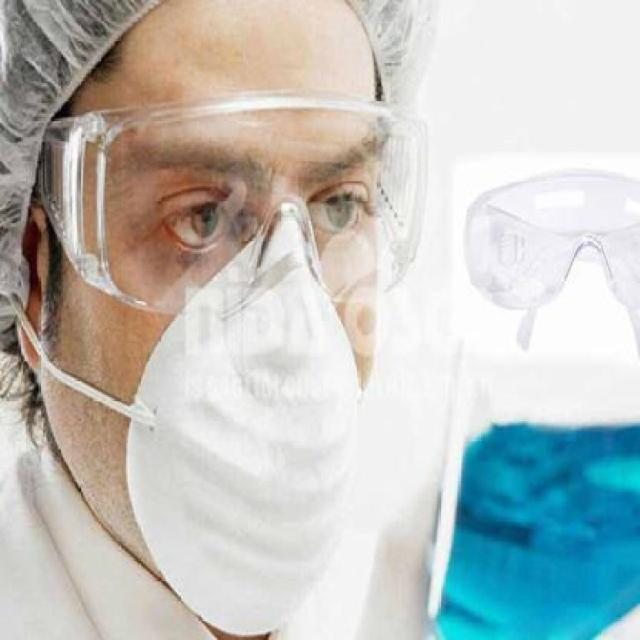face_mask: (69, 75, 397, 582)
glasses: (42, 85, 428, 324)
